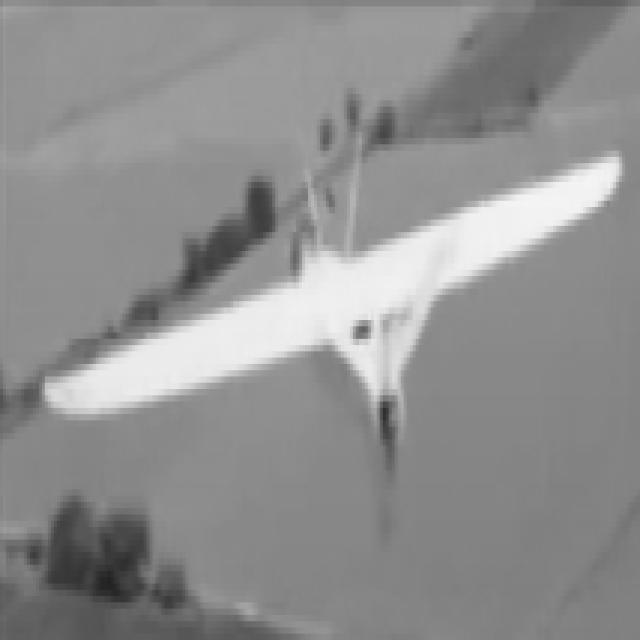iha: (45, 151, 619, 433)
